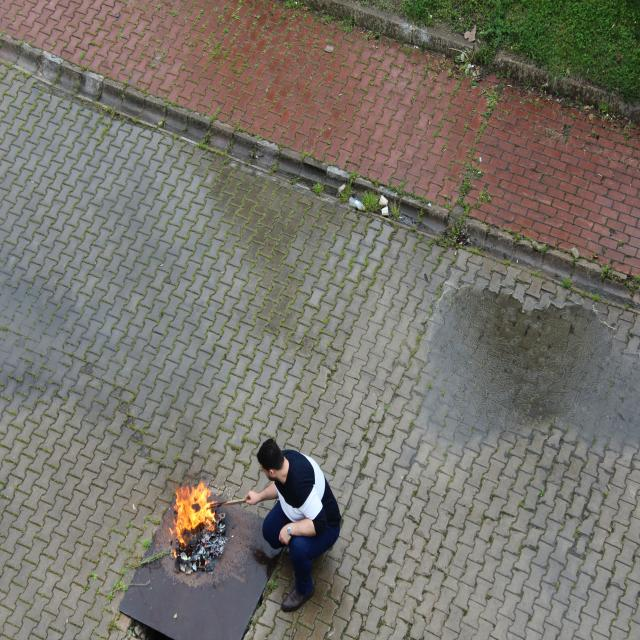fire: (174, 476, 217, 550)
